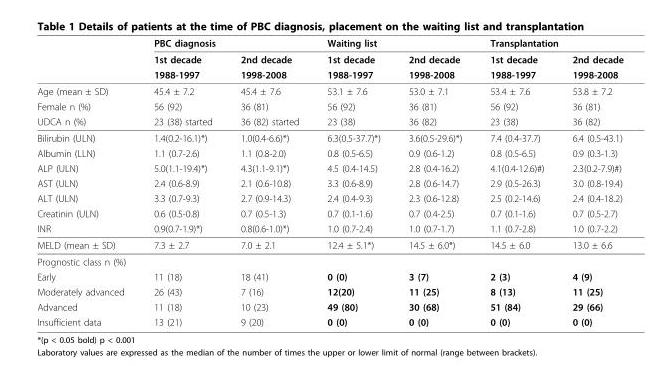table: (36, 36, 622, 327)
table column: (36, 36, 139, 327), (225, 36, 312, 327), (139, 36, 225, 327), (393, 36, 475, 327), (475, 36, 557, 327), (312, 36, 393, 327), (557, 36, 622, 327)
table column header: (36, 36, 622, 82)
table projected row header: (36, 253, 622, 268)
table row: (36, 236, 622, 253), (36, 50, 622, 66), (36, 66, 622, 82), (36, 82, 622, 98), (36, 113, 622, 129), (36, 129, 622, 145), (36, 220, 622, 236), (36, 98, 622, 113), (36, 145, 622, 160), (36, 160, 622, 175), (36, 175, 622, 190), (36, 190, 622, 205), (36, 205, 622, 220), (36, 253, 622, 268), (36, 268, 622, 283), (36, 283, 622, 298), (36, 298, 622, 313), (36, 36, 622, 50), (36, 313, 622, 327)
table spanning cell: (225, 50, 312, 82), (139, 50, 225, 82), (393, 50, 475, 82), (475, 50, 557, 82), (312, 50, 393, 82), (139, 36, 312, 50), (312, 36, 475, 50), (557, 50, 622, 82), (475, 36, 622, 50)
